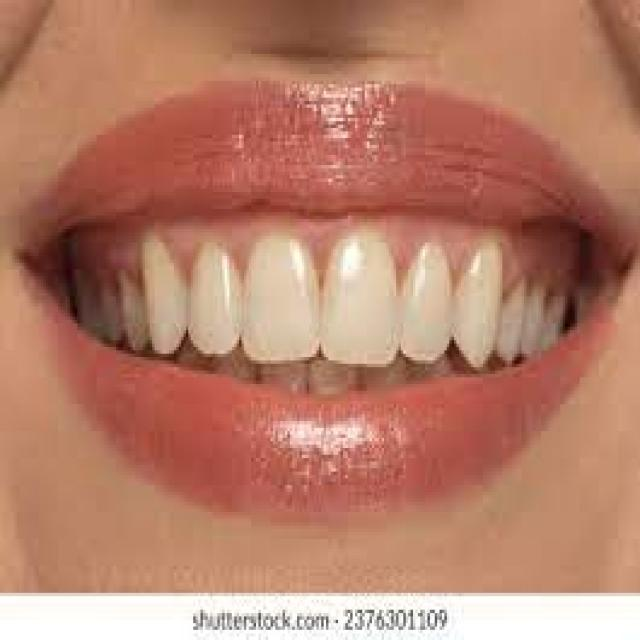tooth: (242, 232, 321, 360), (331, 215, 394, 354), (140, 232, 186, 350), (193, 239, 237, 350), (462, 242, 491, 364), (408, 253, 444, 350), (519, 280, 539, 354), (121, 270, 140, 344), (502, 283, 517, 354)
